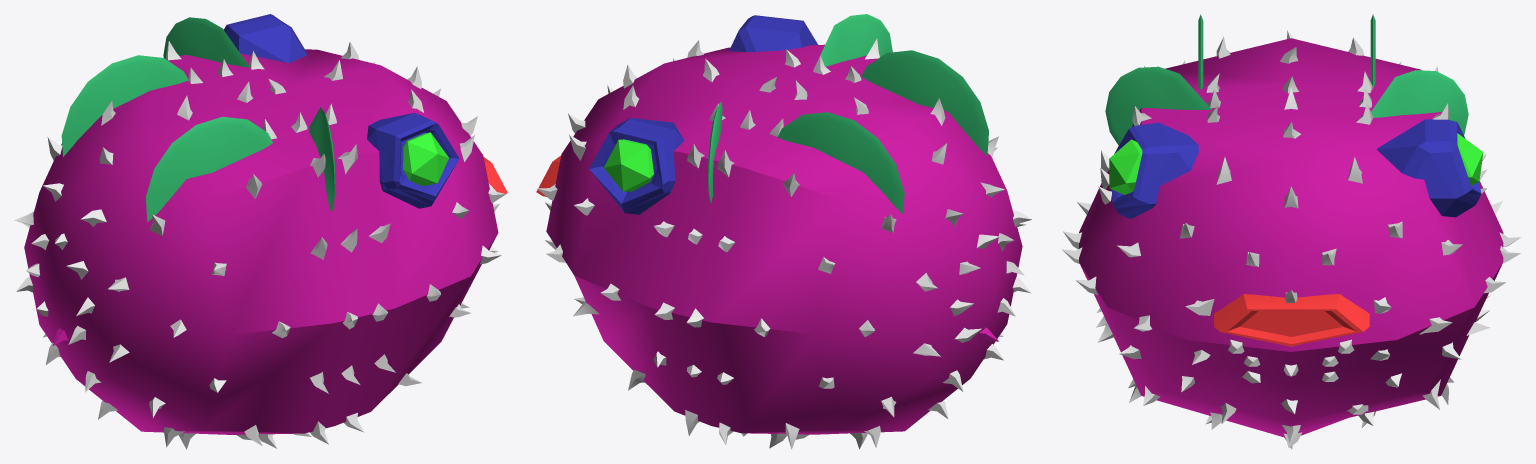
The model's file is pufferfish_0003.fbx.
The picture shows the model from 3 angles, left to right: view 1: azimuth 30°, elevation 25°; view 2: azimuth 150°, elevation 25°; view 3: azimuth 270°, elevation 25°; orthographic projection. The views are drawn at different scales.
Visible parts, largest first — view 1: Capsule, Instance, Cylinder_1, Cylinder, Platonic, Platonic_2, Cylinder_2, Platonic_3, Cylinder_3; view 2: Capsule, Instance, Cylinder_1, Cylinder, Platonic_2, Cylinder_3, Platonic, Platonic_4, Cylinder_2; view 3: Capsule, Instance, Platonic_1, Platonic_2, Platonic, Cylinder_3, Cylinder_2, Platonic_3, Platonic_4.
Boxes of the visible parts, left/top/right/bottom form: Capsule: left=24, top=49, right=498, bottom=434; Instance: left=14, top=41, right=505, bottom=449; Cylinder_1: left=145, top=116, right=272, bottom=222; Cylinder: left=61, top=55, right=188, bottom=156; Platonic: left=367, top=113, right=459, bottom=208; Platonic_2: left=223, top=14, right=306, bottom=62; Cylinder_2: left=163, top=17, right=249, bottom=67; Platonic_3: left=403, top=132, right=448, bottom=186; Cylinder_3: left=309, top=107, right=335, bottom=213; Capsule: left=546, top=44, right=1022, bottom=434; Instance: left=537, top=38, right=1031, bottom=449; Cylinder_1: left=861, top=50, right=988, bottom=156; Cylinder: left=777, top=112, right=904, bottom=214; Platonic_2: left=589, top=118, right=684, bottom=214; Cylinder_3: left=814, top=14, right=892, bottom=67; Platonic: left=729, top=15, right=817, bottom=51; Platonic_4: left=604, top=139, right=653, bottom=191; Cylinder_2: left=707, top=101, right=722, bottom=203; Capsule: left=1079, top=38, right=1503, bottom=437; Instance: left=1062, top=30, right=1521, bottom=449; Platonic_1: left=1214, top=294, right=1369, bottom=346; Platonic_2: left=1376, top=119, right=1481, bottom=217; Platonic: left=1111, top=122, right=1198, bottom=218; Cylinder_3: left=1105, top=66, right=1211, bottom=145; Cylinder_2: left=1371, top=70, right=1468, bottom=134; Platonic_3: left=1109, top=139, right=1142, bottom=194; Platonic_4: left=1457, top=133, right=1483, bottom=185.
Size of the model in its own units: 204 by 172 by 186.
